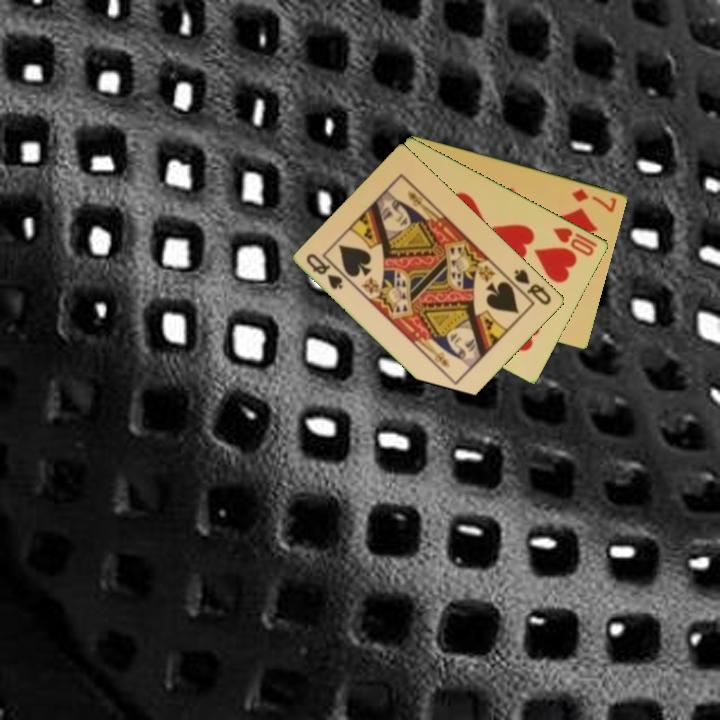10h: (550, 224, 601, 259)
7d: (569, 185, 620, 215)
Qs: (511, 266, 555, 308), (303, 250, 346, 292)
